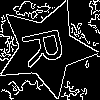R: (21, 23, 75, 69)
